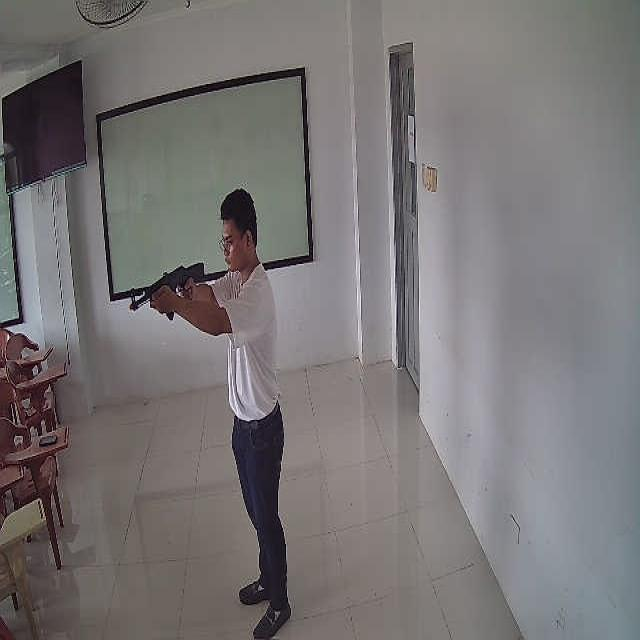rifle: (129, 263, 204, 320)
